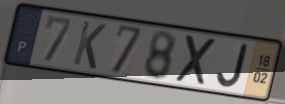7: (113, 23, 145, 77), (43, 14, 74, 65)
8: (141, 29, 177, 82)
J: (215, 42, 251, 90)
K: (70, 18, 108, 72)
X: (172, 33, 218, 89)
